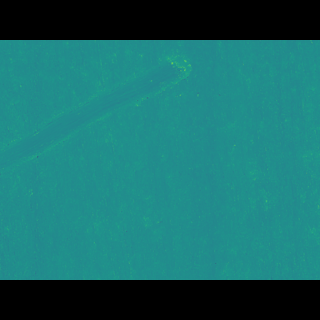Loch: (0, 79, 193, 172)
